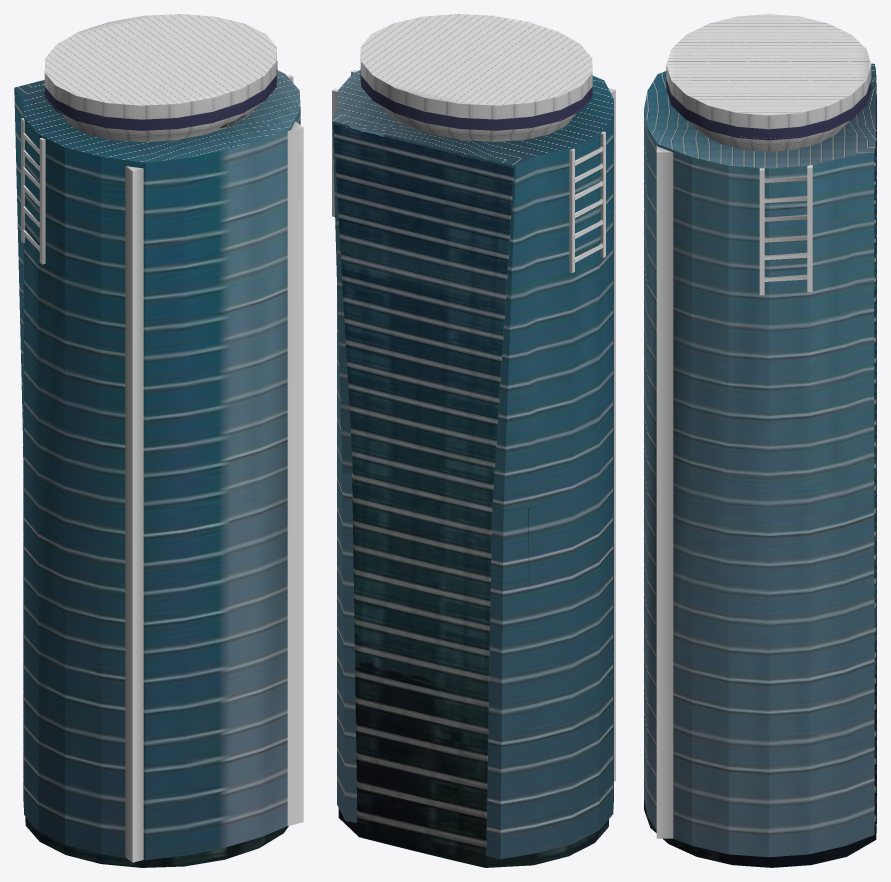
File: g_fortune.glb
3 views of the same model, side by side, from view 1: azimuth 30°, elevation 25°; view 2: azimuth 150°, elevation 25°; view 3: azimuth 270°, elevation 25° (orthographic).
Parts seen in each view (by area): view 1: body|Material_1, body|Material_5, body|Material_4, body|Material_3, body|Material, body|Material_2; view 2: body|Material, body|Material_1, body|Material_4, body|Material_5, body|Material_3, body|Material_2; view 3: body|Material_1, body|Material_4, body|Material_5, body|Material, body|Material_3, body|Material_2.
Boxes of the visible parts, x1,y1,x2,y2 form: body|Material_1: (14,70,300,860); body|Material_5: (21,75,303,862); body|Material_4: (44,14,276,119); body|Material_3: (44,61,277,130); body|Material: (25,817,288,867); body|Material_2: (45,97,259,141); body|Material: (333,123,609,867); body|Material_1: (332,70,613,859); body|Material_4: (360,14,592,119); body|Material_5: (332,70,615,781); body|Material_3: (360,68,592,130); body|Material_2: (377,103,586,141); body|Material_1: (644,63,876,857); body|Material_4: (666,14,871,129); body|Material_5: (656,145,812,838); body|Material: (644,67,876,867); body|Material_3: (666,79,871,140); body|Material_2: (687,120,849,151).
Bounding box in the file's own units: 38.88 × 111 × 31.55.
Materials: 6 (4 with a texture image).
